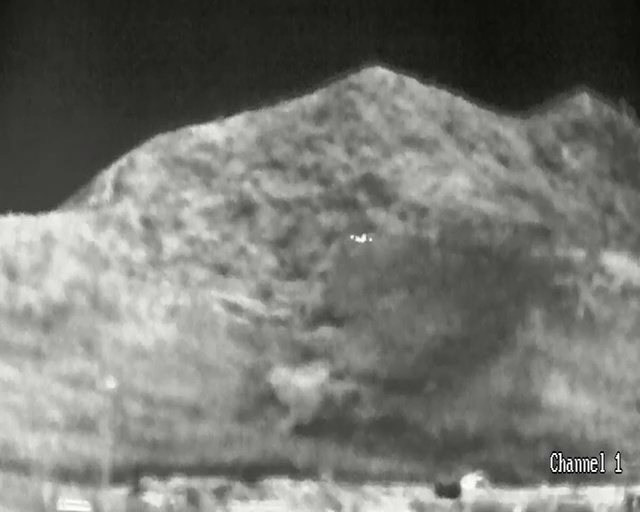uav: (350, 233, 372, 242)
